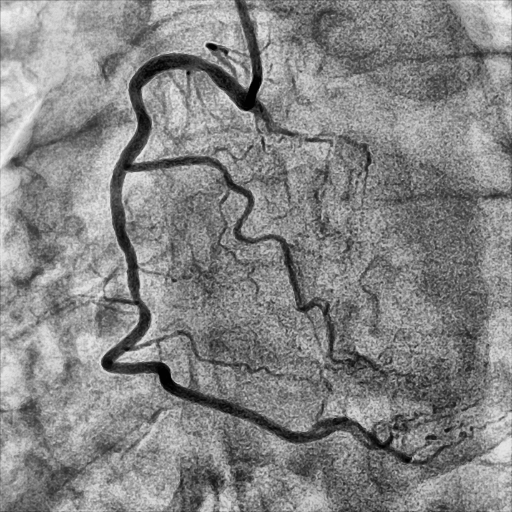rca: (101, 52, 317, 444)
